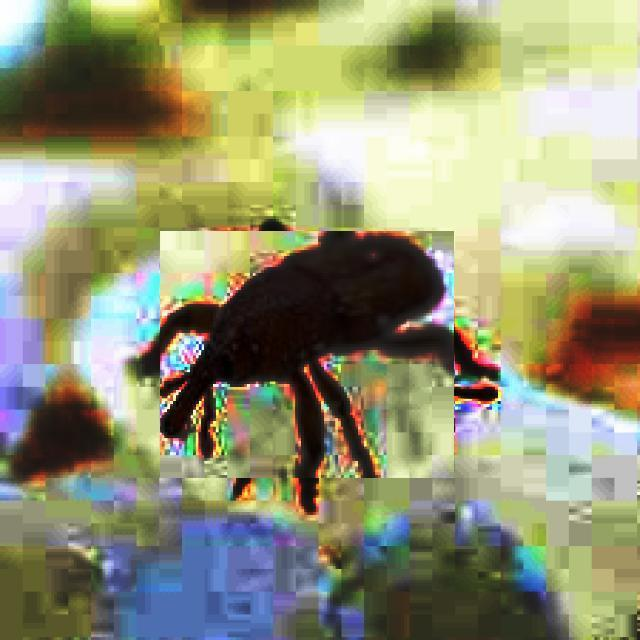rice-bug: (161, 231, 455, 478)
